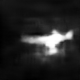plane: (19, 26, 76, 58)
